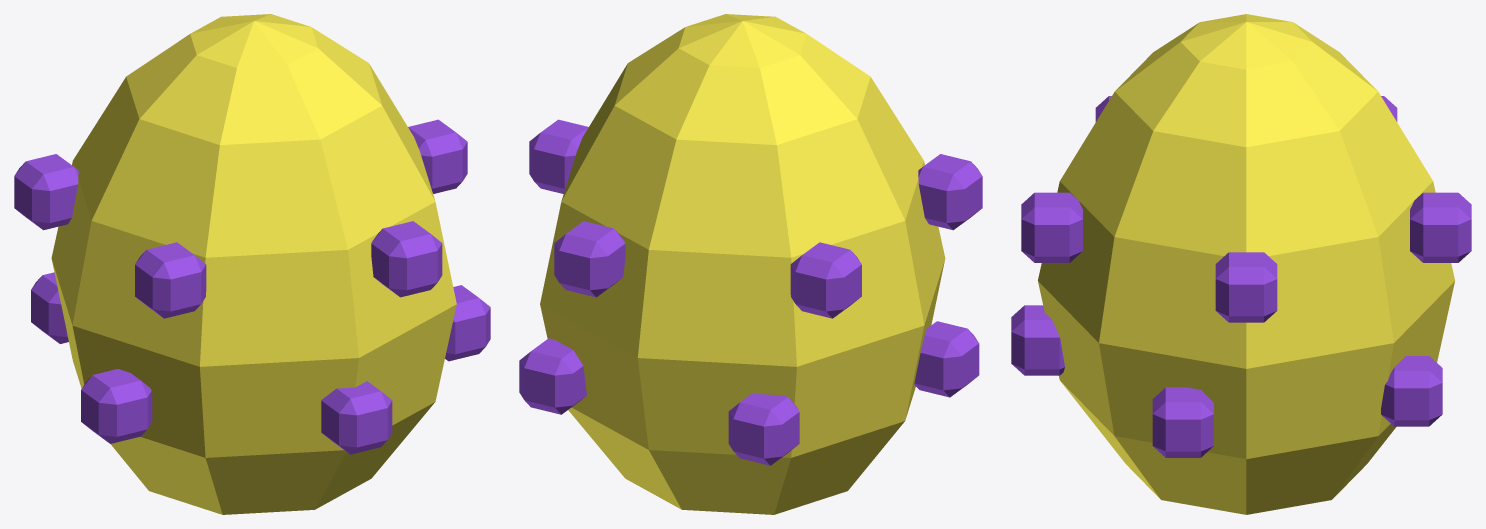
The model's file is DottedEasterEgg.fbx.
3 renders of one model, left to right at view 1: azimuth 30°, elevation 25°; view 2: azimuth 150°, elevation 25°; view 3: azimuth 270°, elevation 25°, orthographic.
Parts seen in each view (by area): view 1: DottedEasterEgg; view 2: DottedEasterEgg; view 3: DottedEasterEgg.
Part boxes in pixels (bbox=[...]): DottedEasterEgg: bbox=[14, 14, 490, 514]; DottedEasterEgg: bbox=[519, 14, 982, 514]; DottedEasterEgg: bbox=[1011, 14, 1471, 514].
Size of the model in its own units: 2.09 by 2.3 by 2.09.
Materials: 1 (1 with a texture image).
